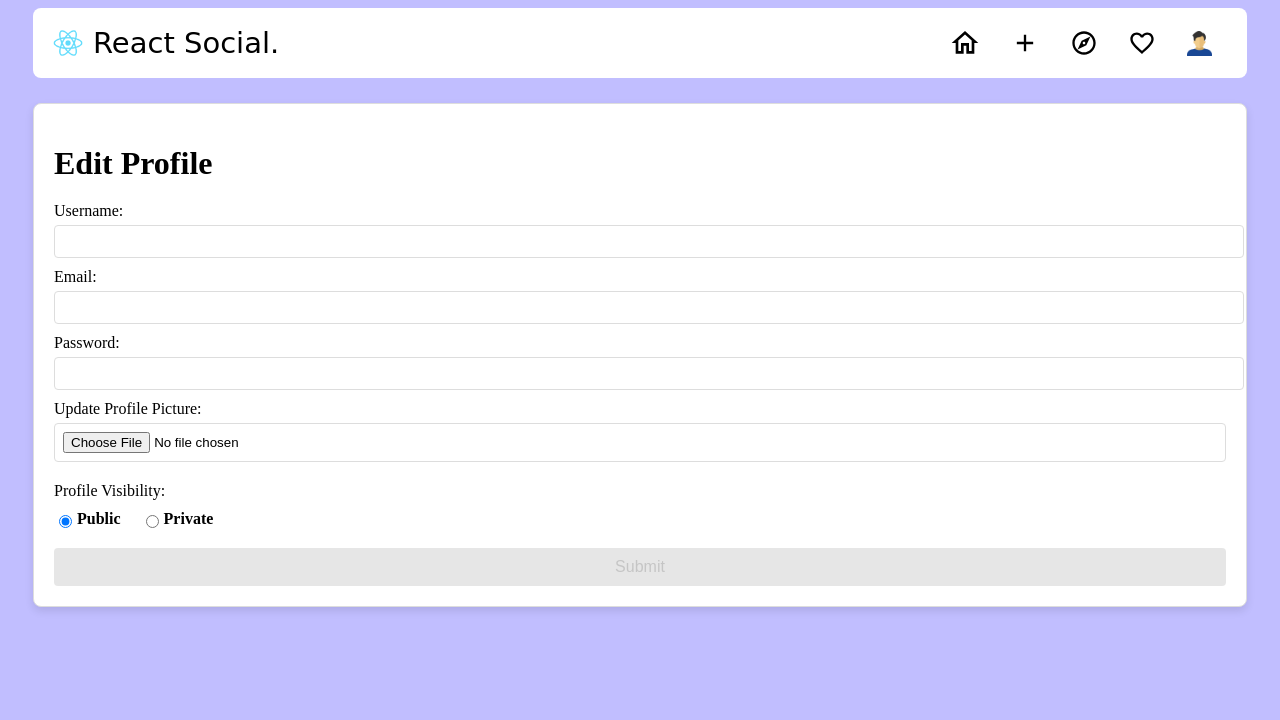
Test: EditProfile Component › should display password validation error message
The width and height of the screenshot is (1280, 720).
Type "short" into the password field labelled "Password:".
click(649, 374); type("short")  # box [54,357,1244,390]
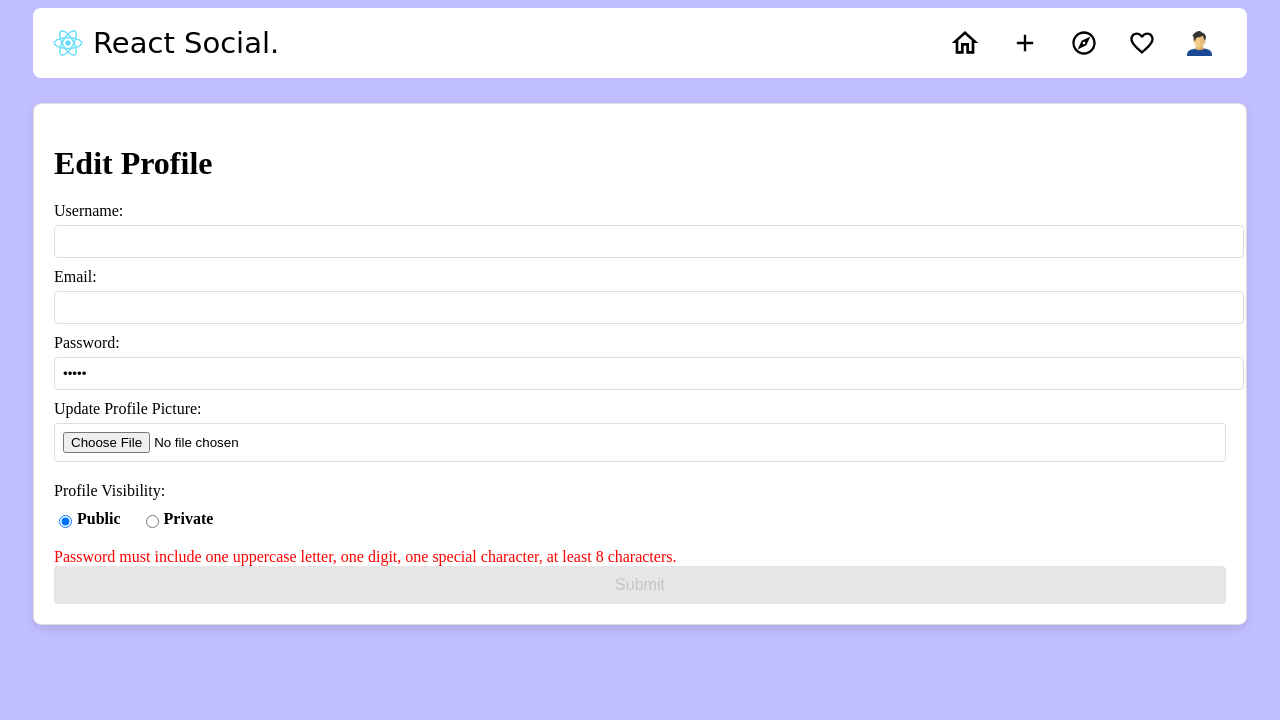
Expected: the text "Password must include" is shown, [54,548,676,565]
